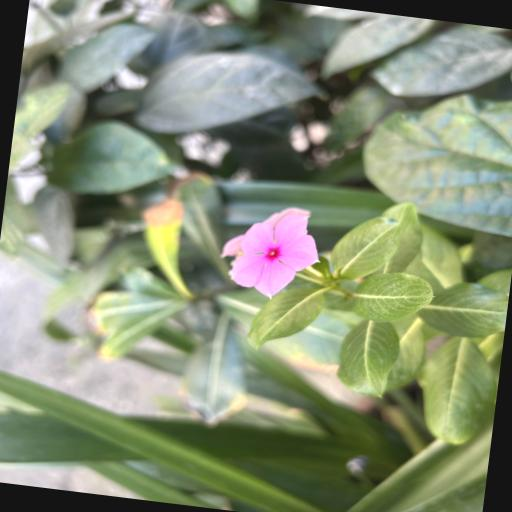Periwinkle: (215, 215, 330, 302)
